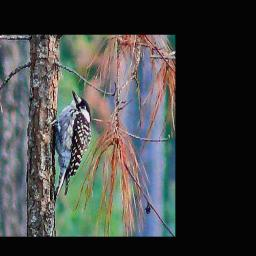Woodpecker: (40, 84, 98, 209)
